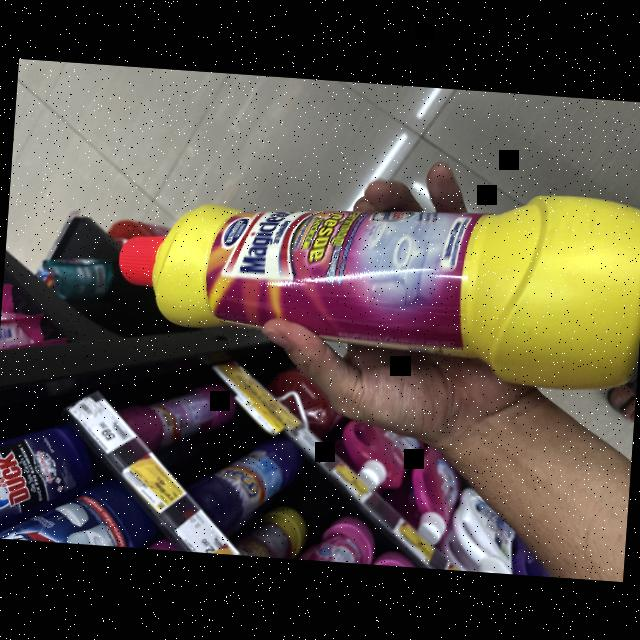chemical_plastic_bottle: (102, 164, 640, 406)
